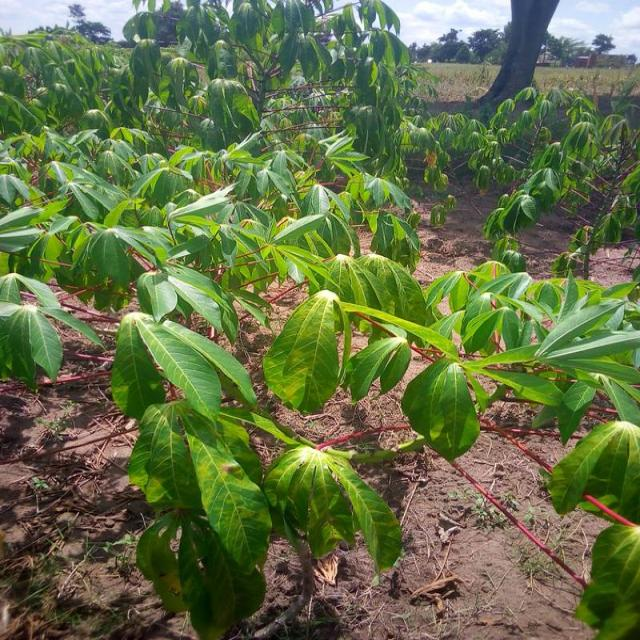cassava leaf: (263, 288, 352, 414), (401, 355, 482, 461)
